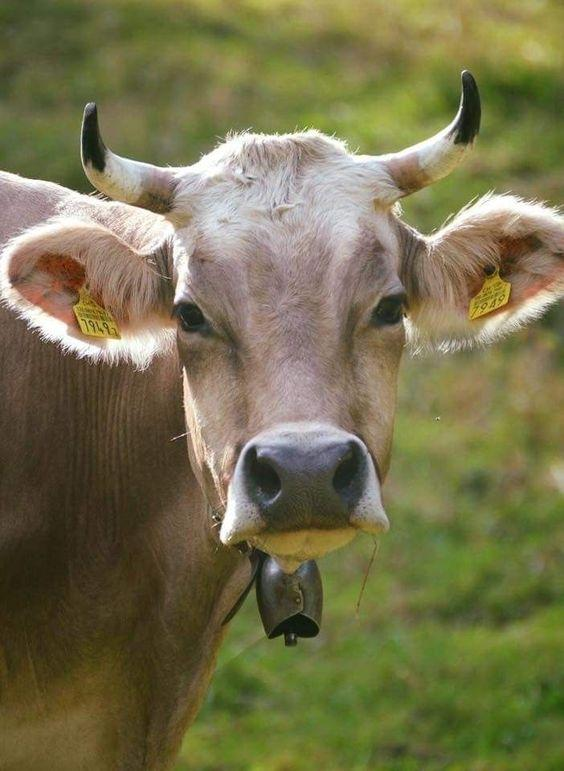cow: (8, 72, 564, 622)
